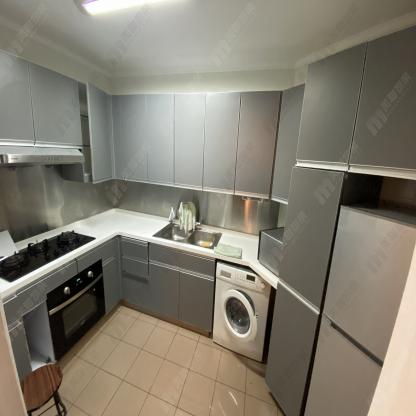Cupboard: (1, 27, 415, 205)
Exhaust Hood: (1, 145, 83, 170)
Fridge: (303, 202, 414, 416)
Oven: (44, 258, 108, 358)
Sink: (151, 220, 222, 251)
Stove: (0, 231, 97, 281)
